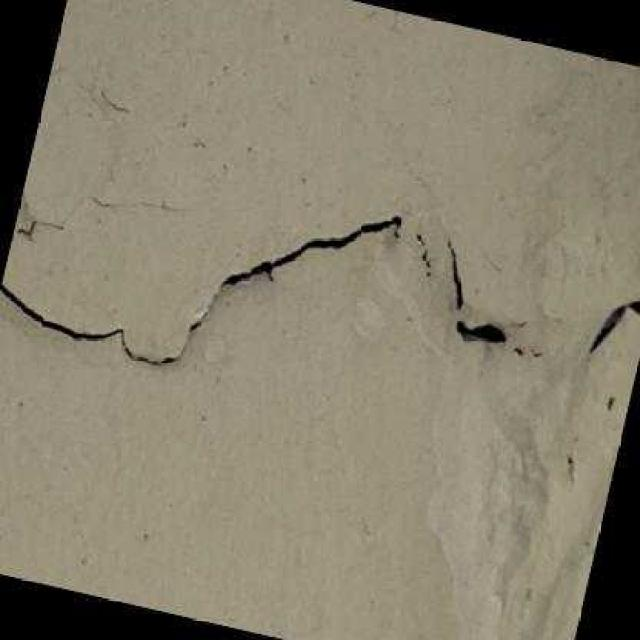D00: (0, 274, 202, 367), (210, 207, 395, 299), (586, 294, 640, 355), (456, 316, 505, 348), (448, 240, 464, 303)
